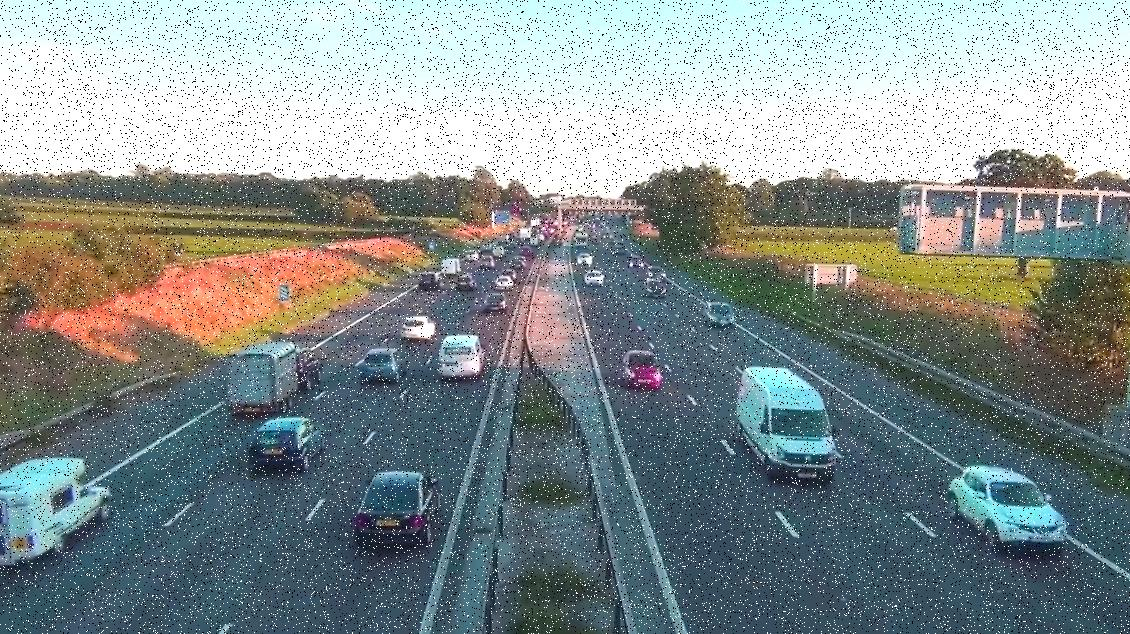bus: (435, 335, 484, 379)
car: (734, 366, 842, 476), (949, 466, 1069, 558), (351, 471, 452, 543), (243, 416, 331, 470), (622, 349, 666, 390), (355, 349, 404, 385), (402, 315, 437, 341), (704, 303, 737, 329), (417, 270, 444, 292), (484, 293, 510, 312), (643, 278, 667, 298), (455, 272, 478, 291), (582, 271, 605, 288), (497, 275, 516, 288)
truck: (0, 454, 113, 566), (224, 338, 323, 413)
